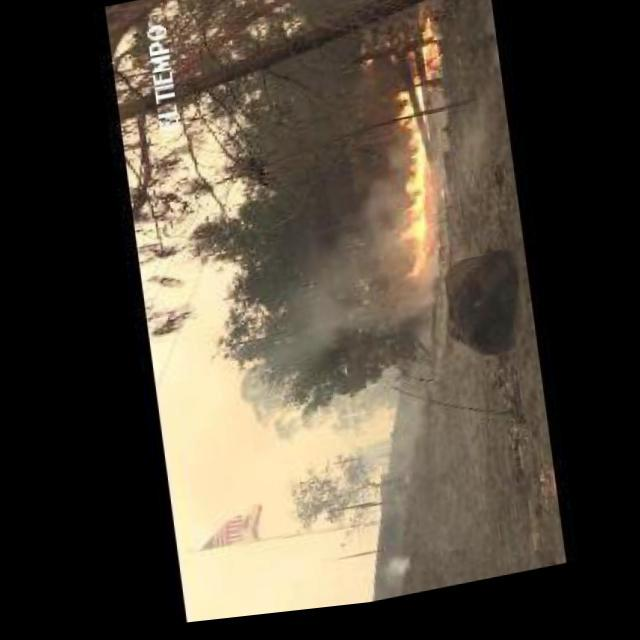fire: (254, 198, 406, 370), (370, 84, 438, 296), (412, 26, 440, 86), (368, 552, 408, 592), (378, 46, 409, 74), (360, 68, 370, 76)
